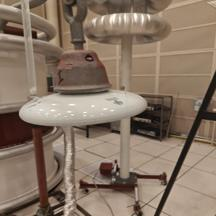insulator: (7, 43, 155, 131)
